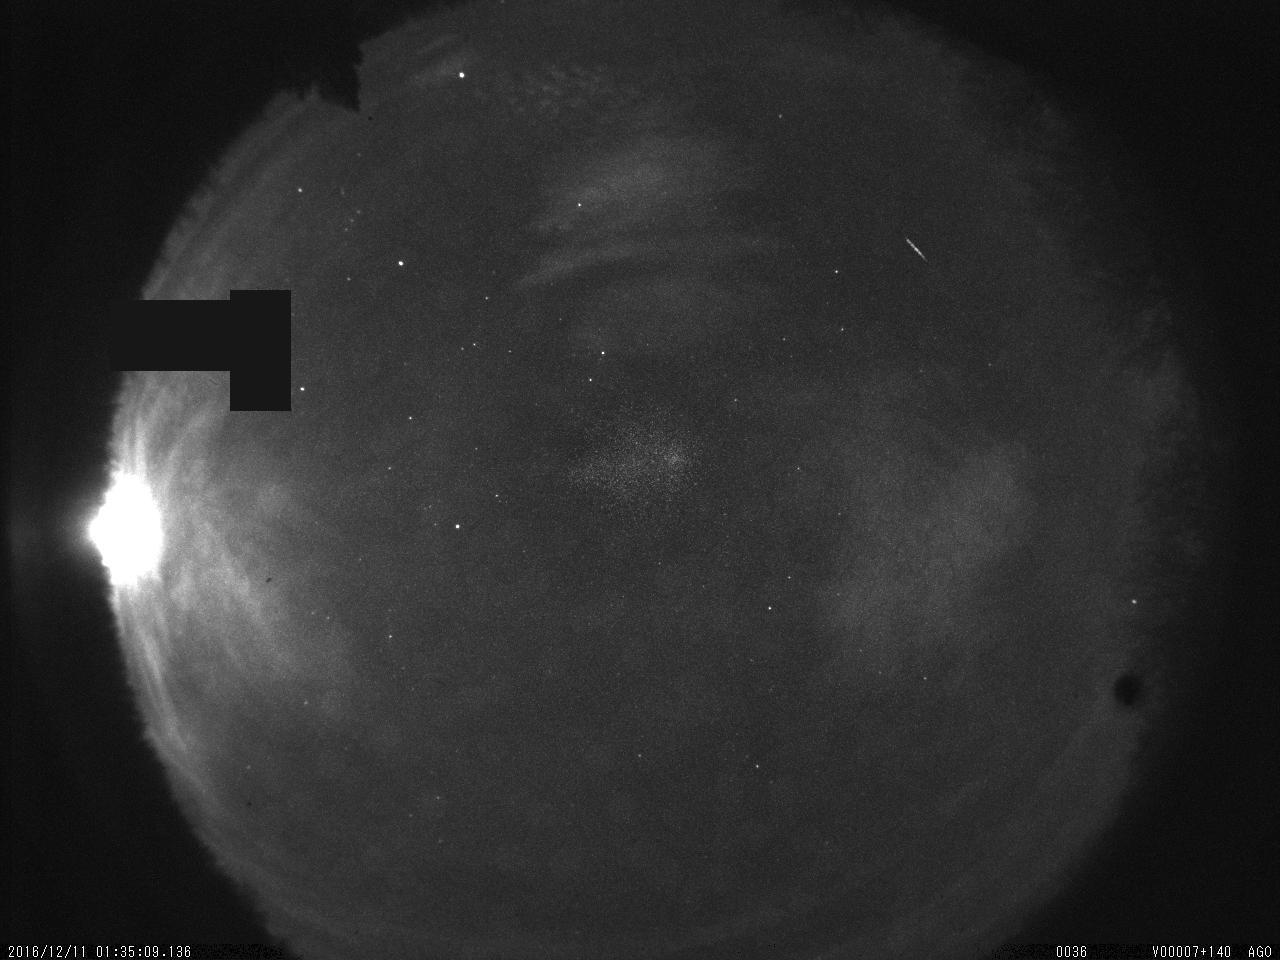meteor: (900, 229, 934, 266)
